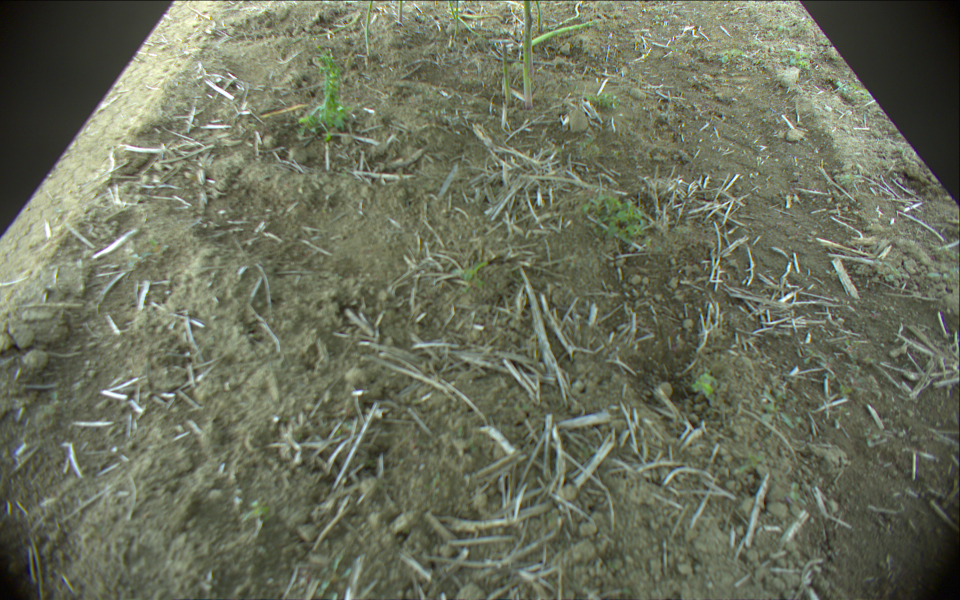aspa: (525, 19, 606, 51), (521, 1, 535, 107), (499, 43, 516, 106), (549, 2, 586, 29), (363, 1, 375, 58), (393, 1, 407, 26), (534, 1, 543, 33), (449, 1, 456, 21), (455, 1, 459, 34)
